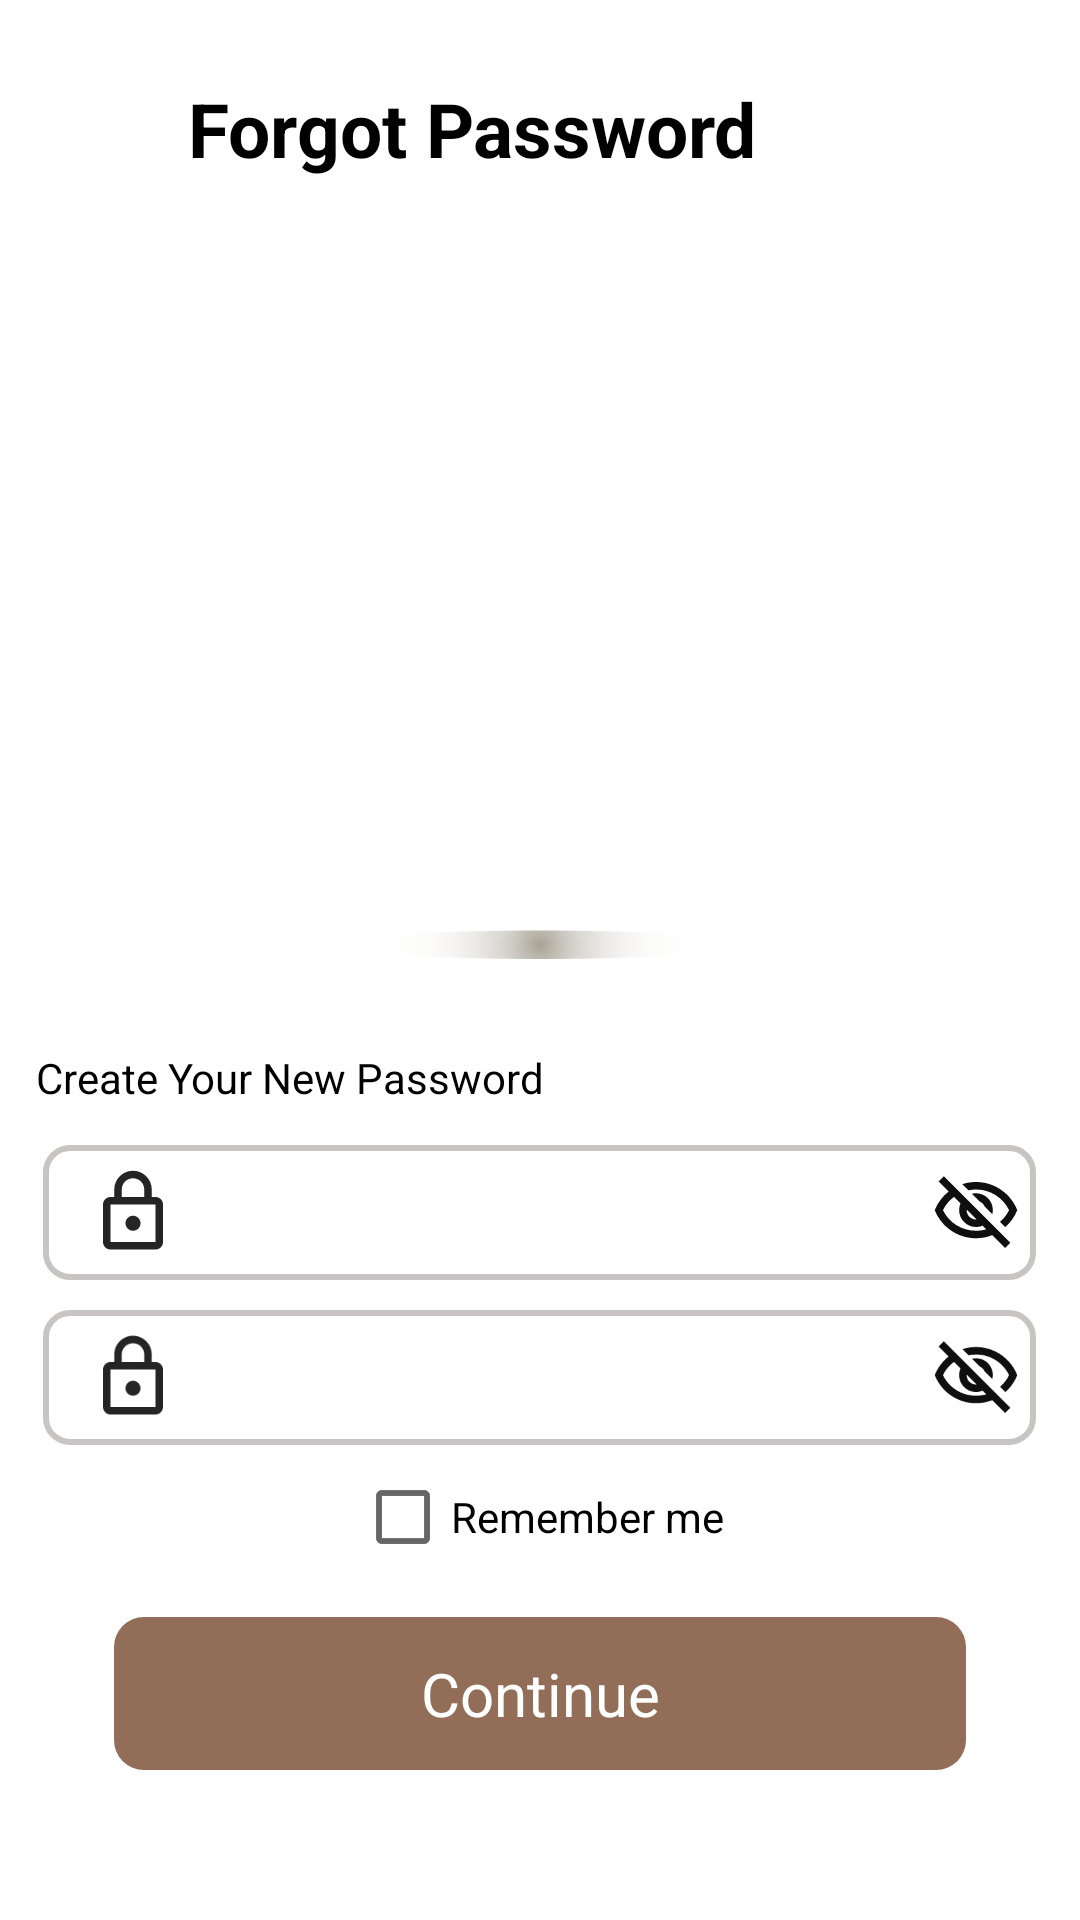

Named icons in this screenshot (1080w x 1920h) and their centers, [x,y]:
lock password: [133,1210], [133,1375]
visibility off: [976,1212], [976,1377]
